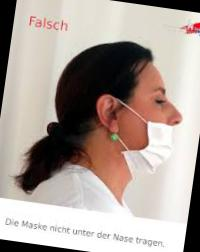mask_weared_incorrect: (126, 82, 190, 186)
